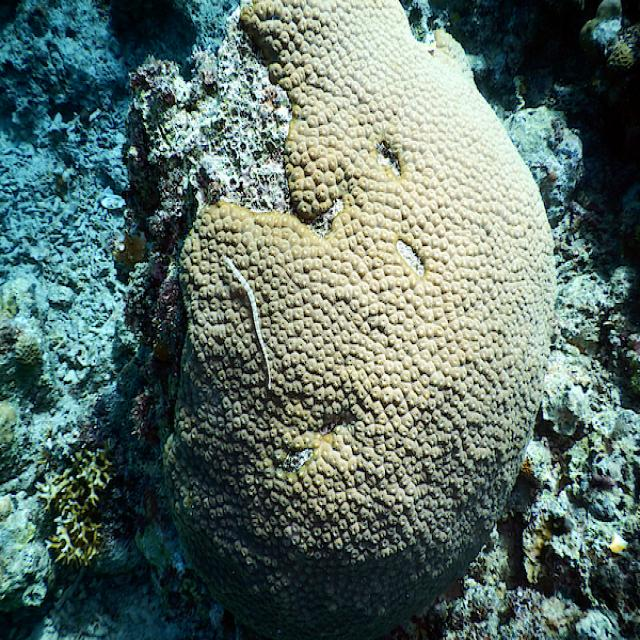Coral: (163, 0, 557, 640)
